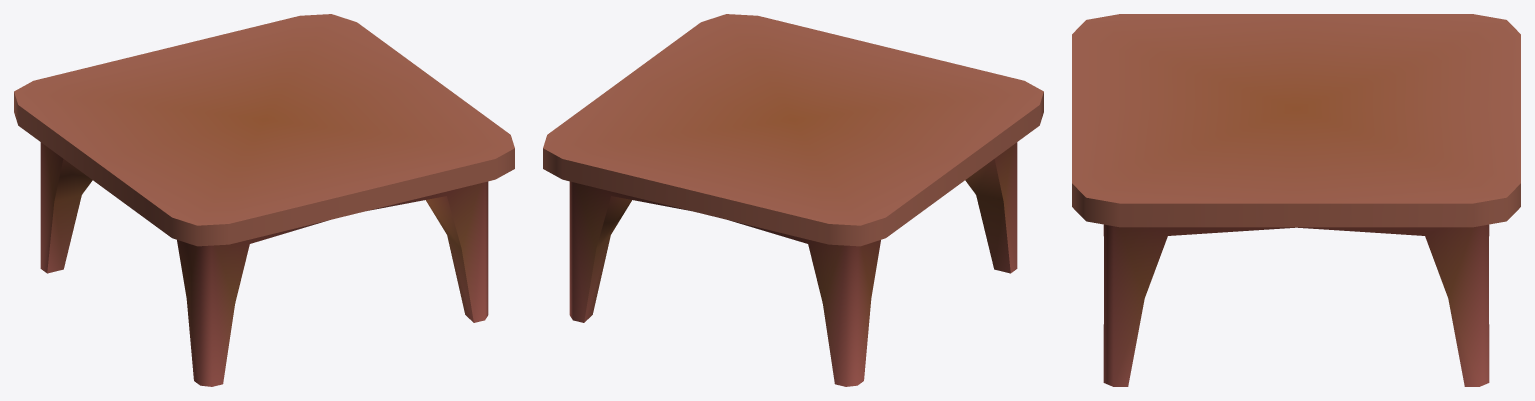
The model's file is Table.fbx.
3 views of the same model, side by side, from view 1: azimuth 30°, elevation 25°; view 2: azimuth 150°, elevation 25°; view 3: azimuth 270°, elevation 25° (orthographic). The views are drawn at different scales.
Parts seen in each view (by area): view 1: Table; view 2: Table; view 3: Table.
Part boxes in pixels (bbox=[...]): Table: bbox=[14, 14, 514, 386]; Table: bbox=[543, 14, 1043, 386]; Table: bbox=[1072, 14, 1520, 386].
Size of the model in its own units: 200 by 97.2 by 200.
